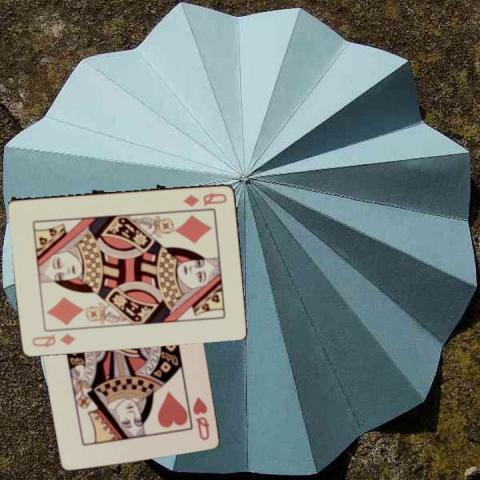Qd: (30, 330, 78, 349), (180, 189, 228, 206)
Qh: (189, 393, 211, 442)
